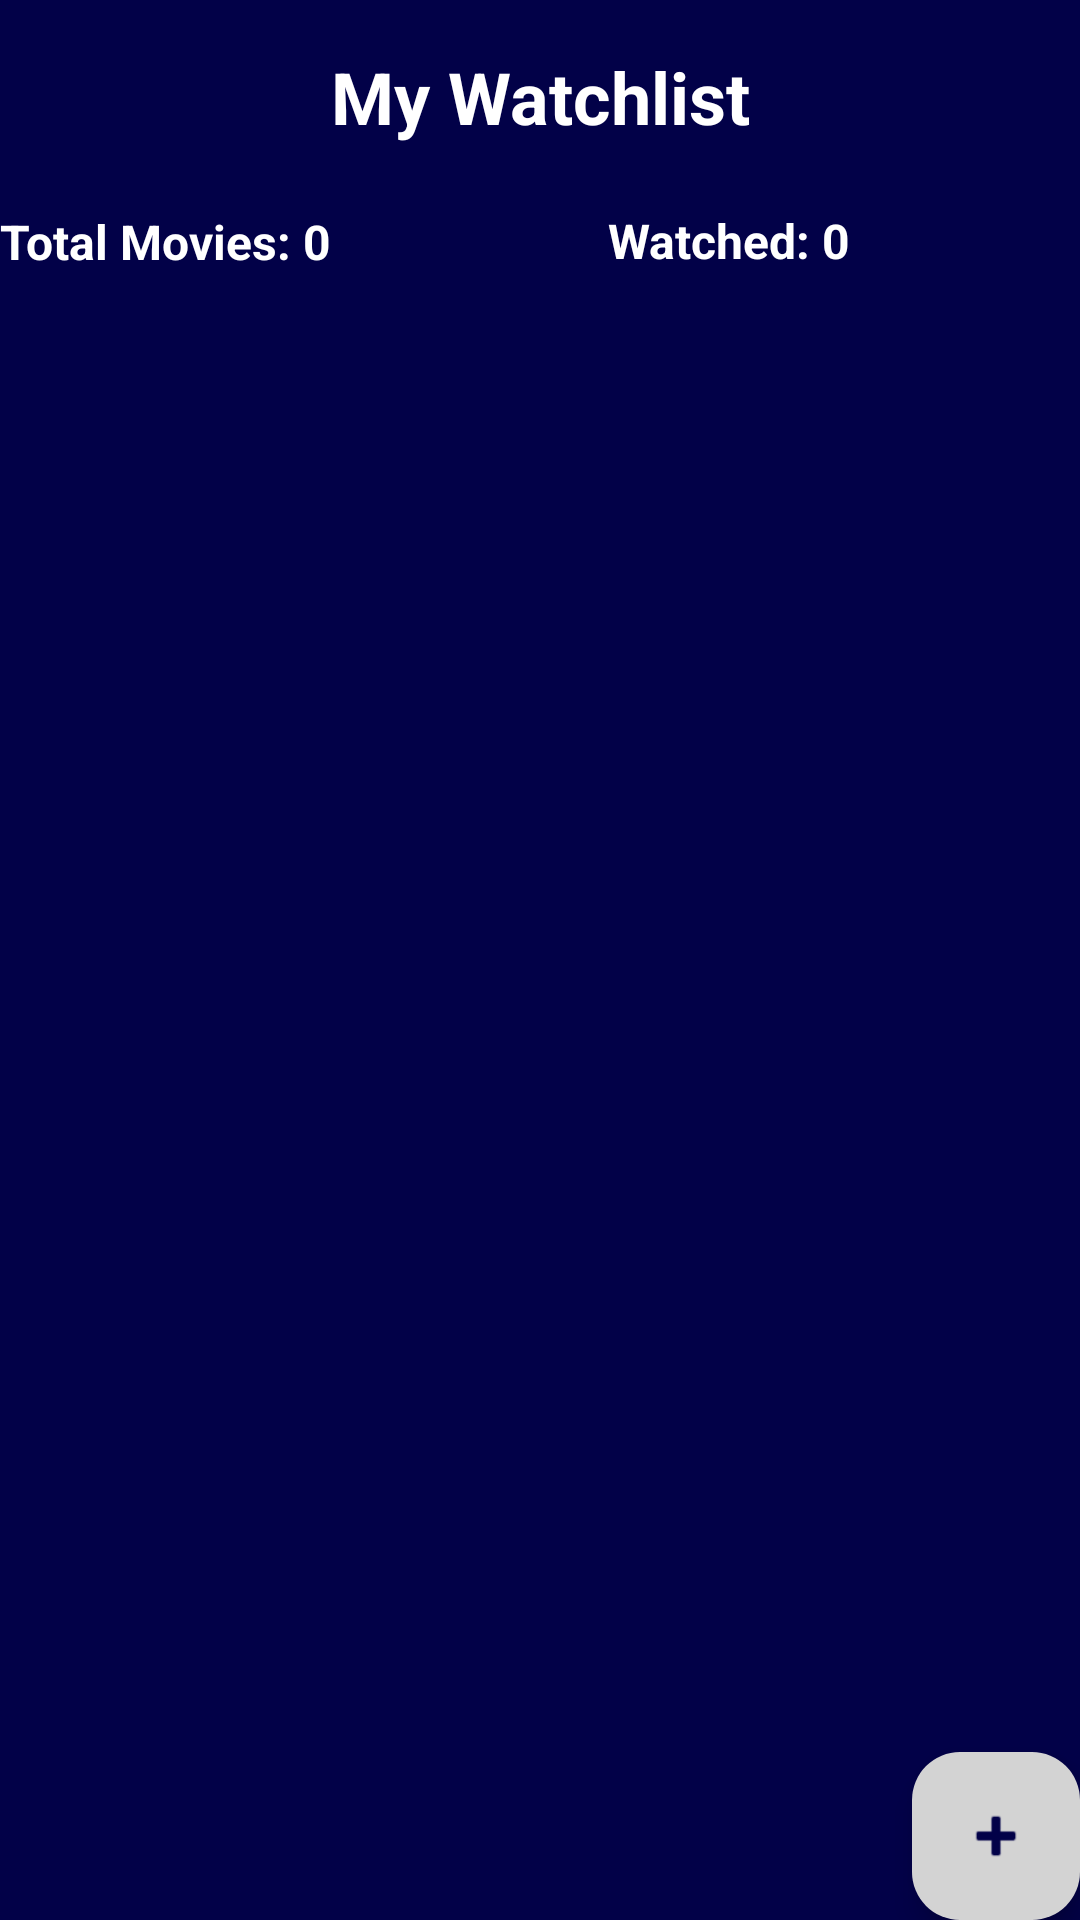

Icons on this 1080×1920 Android screen, each with its box as [x1, y1, x2, y2]:
Add Movie: [912, 1752, 1080, 1920]
